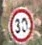limite 30: (8, 5, 33, 44)
